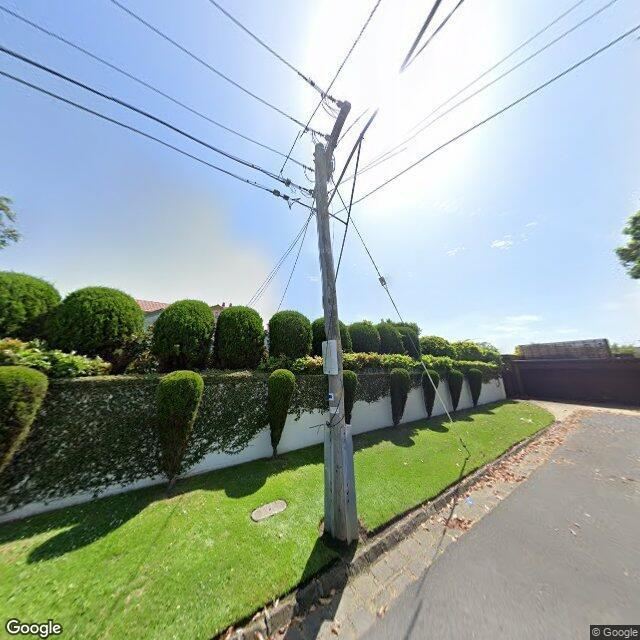crossarm: (273, 72, 352, 211)
timber-pole: (313, 142, 360, 544)
